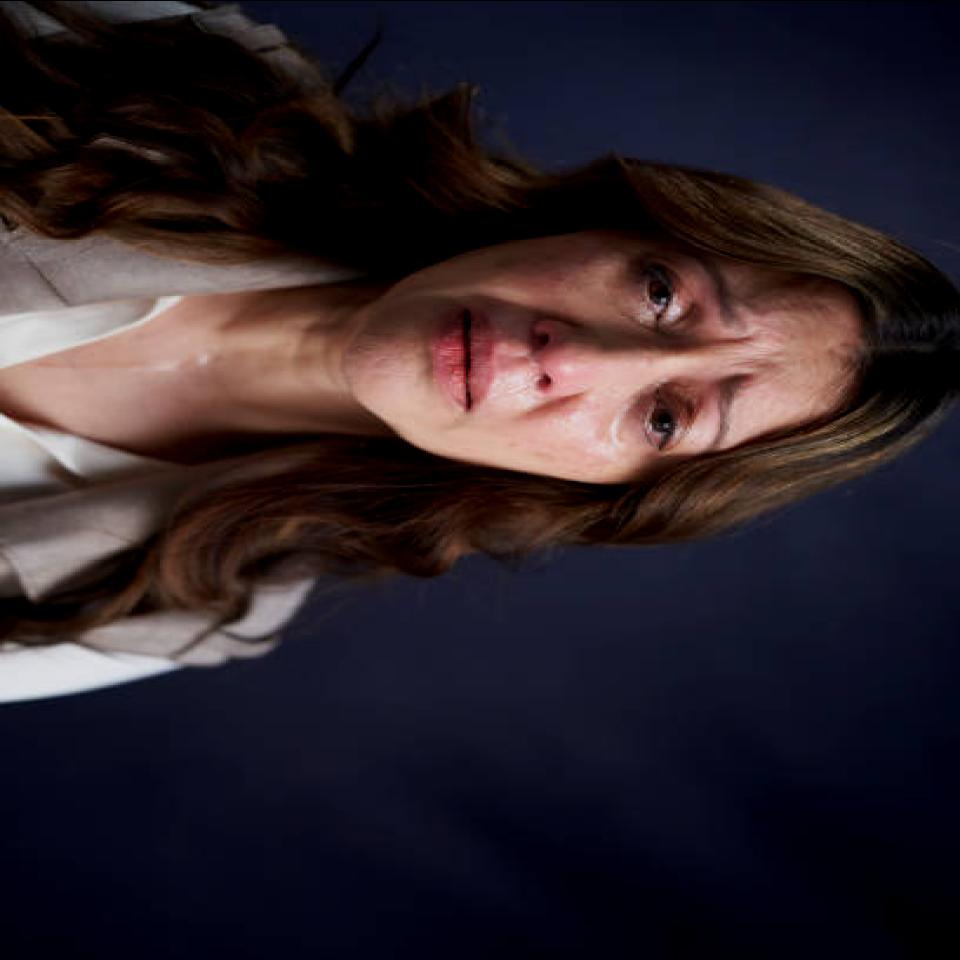Sadness: (370, 227, 864, 485)
